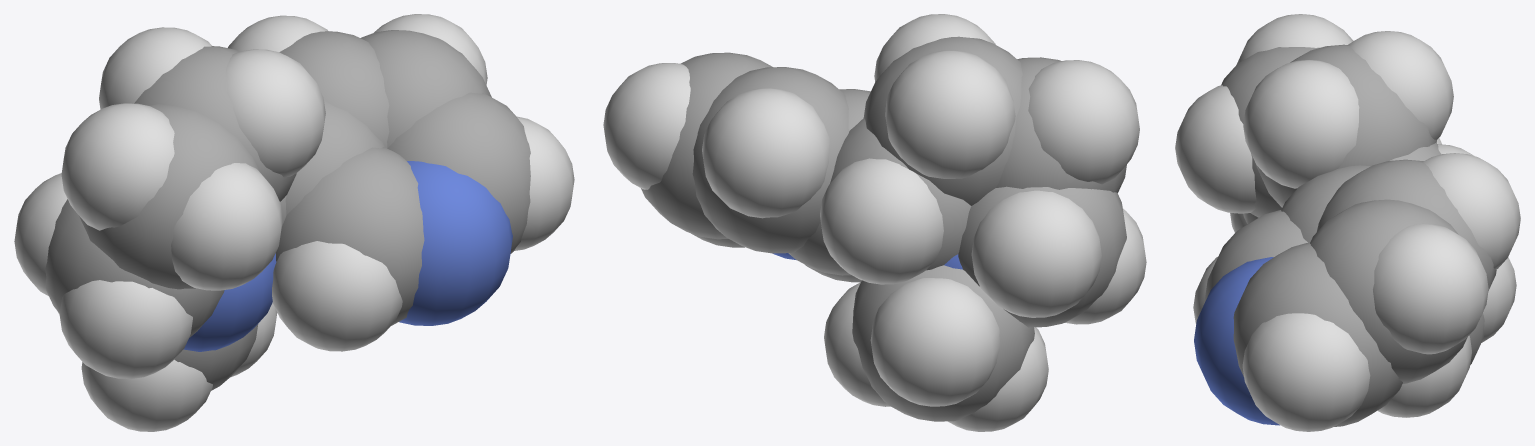
Rendered from nicotine-cpk.glb.
3 renders of one model, left to right at view 1: azimuth 30°, elevation 25°; view 2: azimuth 150°, elevation 25°; view 3: azimuth 270°, elevation 25°, orthographic. The views are drawn at different scales.
Parts seen in each view (by area): view 1: nicotine-cpk; view 2: nicotine-cpk; view 3: nicotine-cpk.
Part boxes in pixels (x1,y1,x2,y2): nicotine-cpk: (14, 14, 574, 431); nicotine-cpk: (603, 14, 1146, 431); nicotine-cpk: (1175, 14, 1520, 431).
Bounding box in the file's own units: 10.26 × 7.39 × 6.28.
